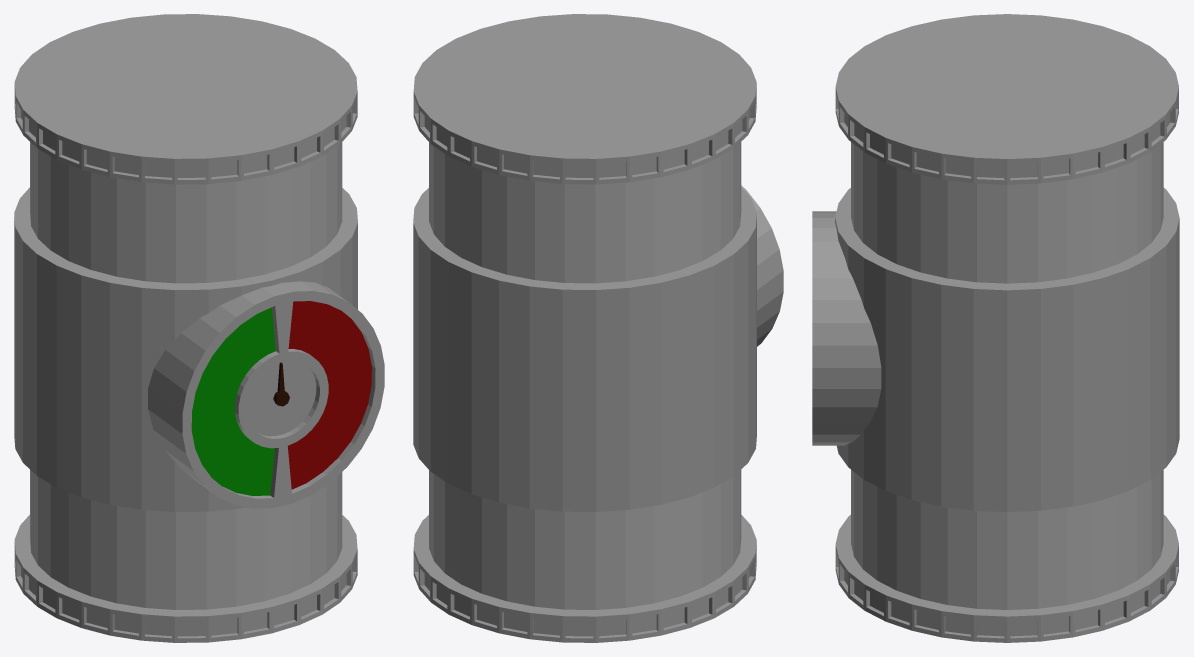
File: evil_tank.fbx
3 renders of one model, left to right at view 1: azimuth 30°, elevation 25°; view 2: azimuth 150°, elevation 25°; view 3: azimuth 270°, elevation 25°, orthographic.
Parts seen in each view (by area): view 1: tank; view 2: tank; view 3: tank.
Part boxes in pixels (<box>): tank: <box>14,14,384,642</box>; tank: <box>413,14,783,642</box>; tank: <box>812,14,1179,642</box>.
Size of the model in its own units: 117 by 181 by 124.
